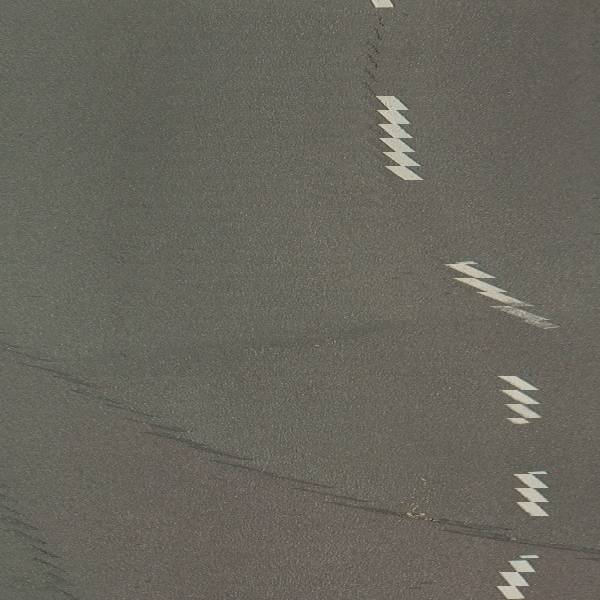road_damage: (98, 393, 412, 515)
